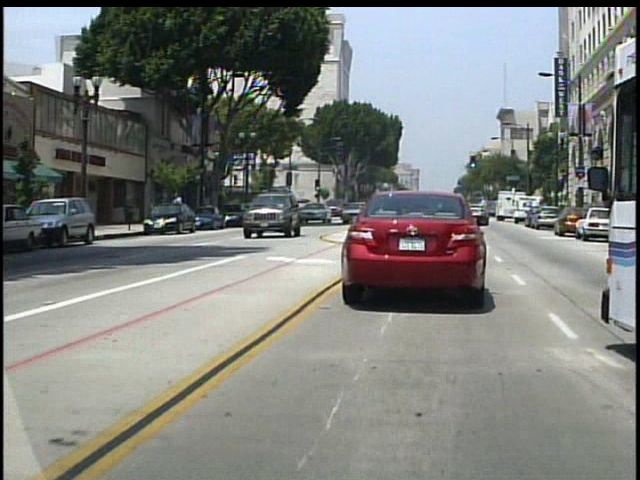person: (177, 191, 190, 225)
